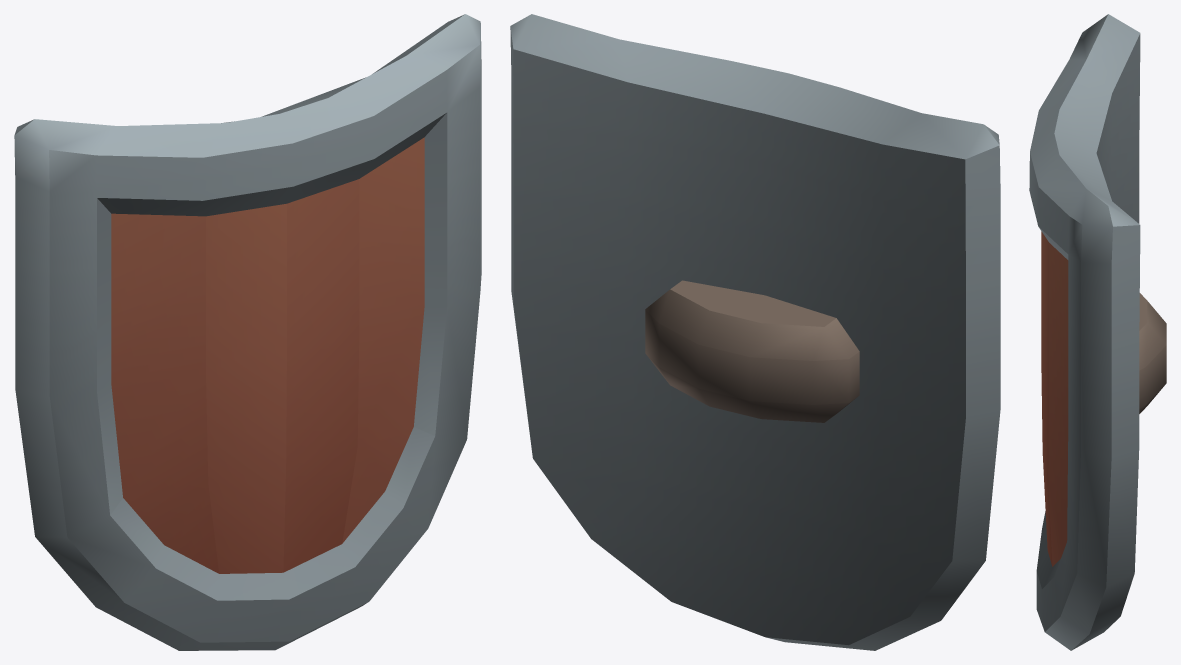
The model's file is kaykit-shield-badge.glb.
The picture shows the model from 3 angles, left to right: view 1: azimuth 30°, elevation 25°; view 2: azimuth 150°, elevation 25°; view 3: azimuth 270°, elevation 25°; orthographic projection. The views are drawn at different scales.
Parts seen in each view (by area): view 1: kaykit-shield-badge; view 2: kaykit-shield-badge; view 3: kaykit-shield-badge.
Boxes of the visible parts, x1,y1,x2,y2 form: kaykit-shield-badge: (14,14,481,650); kaykit-shield-badge: (510,14,1000,650); kaykit-shield-badge: (1029,14,1166,650).
Bounding box in the file's own units: 0.662 × 0.7662 × 0.1844.
Materials: 1 (1 with a texture image).
